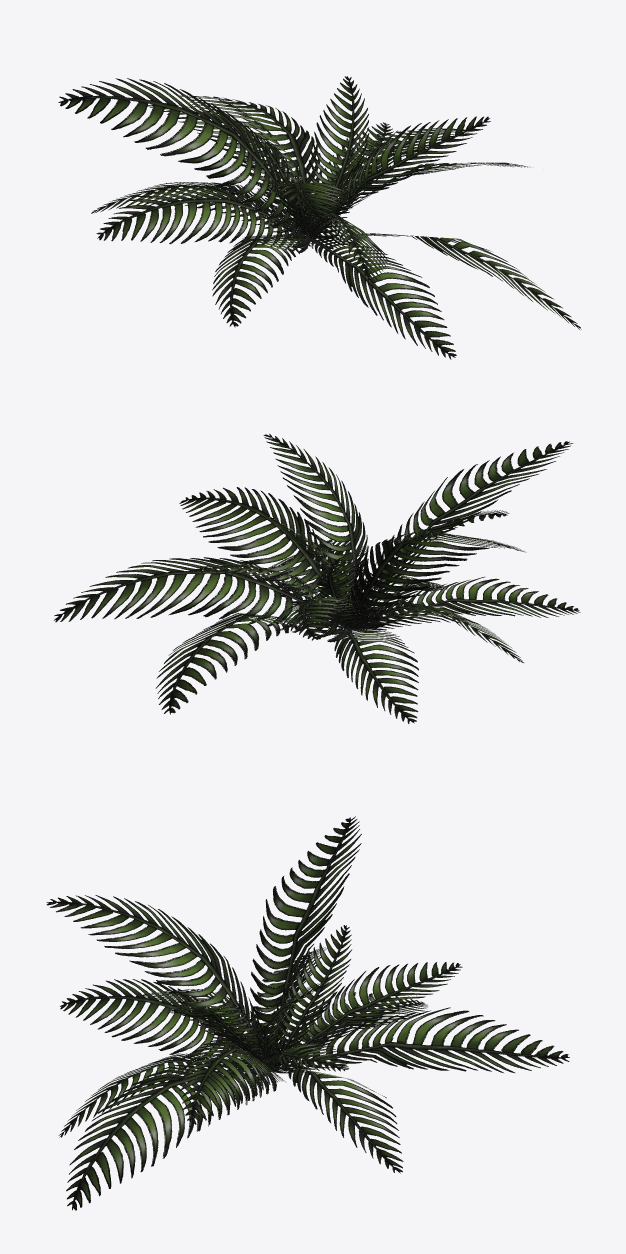
Rendered from fougere.FBX.
3 renders of one model, top to bottom at view 1: azimuth 30°, elevation 25°; view 2: azimuth 150°, elevation 25°; view 3: azimuth 270°, elevation 25°, orthographic. The views are drawn at different scales.
Parts seen in each view (by area): view 1: fougere; view 2: fougere; view 3: fougere.
Part boxes in pixels (<box>): fougere: <box>58,76,581,359</box>; fougere: <box>54,433,580,723</box>; fougere: <box>46,816,569,1210</box>.
Size of the model in its own units: 22.14 by 11.71 by 23.57.
